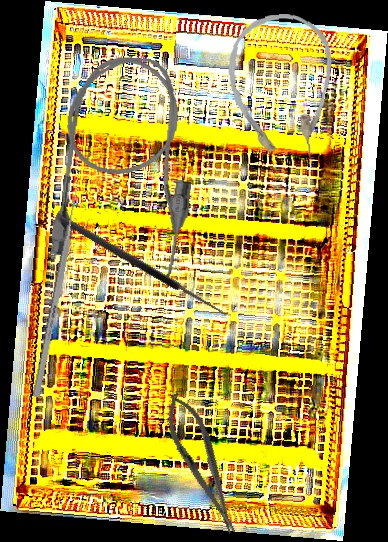Cannula: (48, 51, 204, 282), (224, 11, 339, 165)
Hook Surgical: (53, 203, 238, 321)
Needle Holder: (156, 387, 248, 541)
Pusher: (32, 182, 82, 398)
